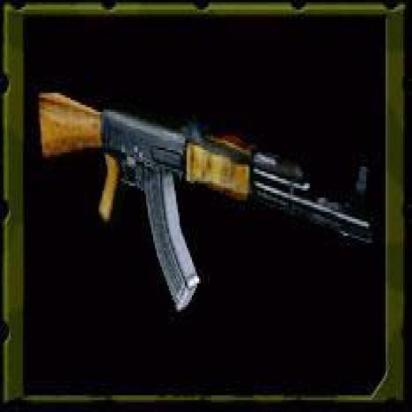Gun: (36, 80, 386, 324)
